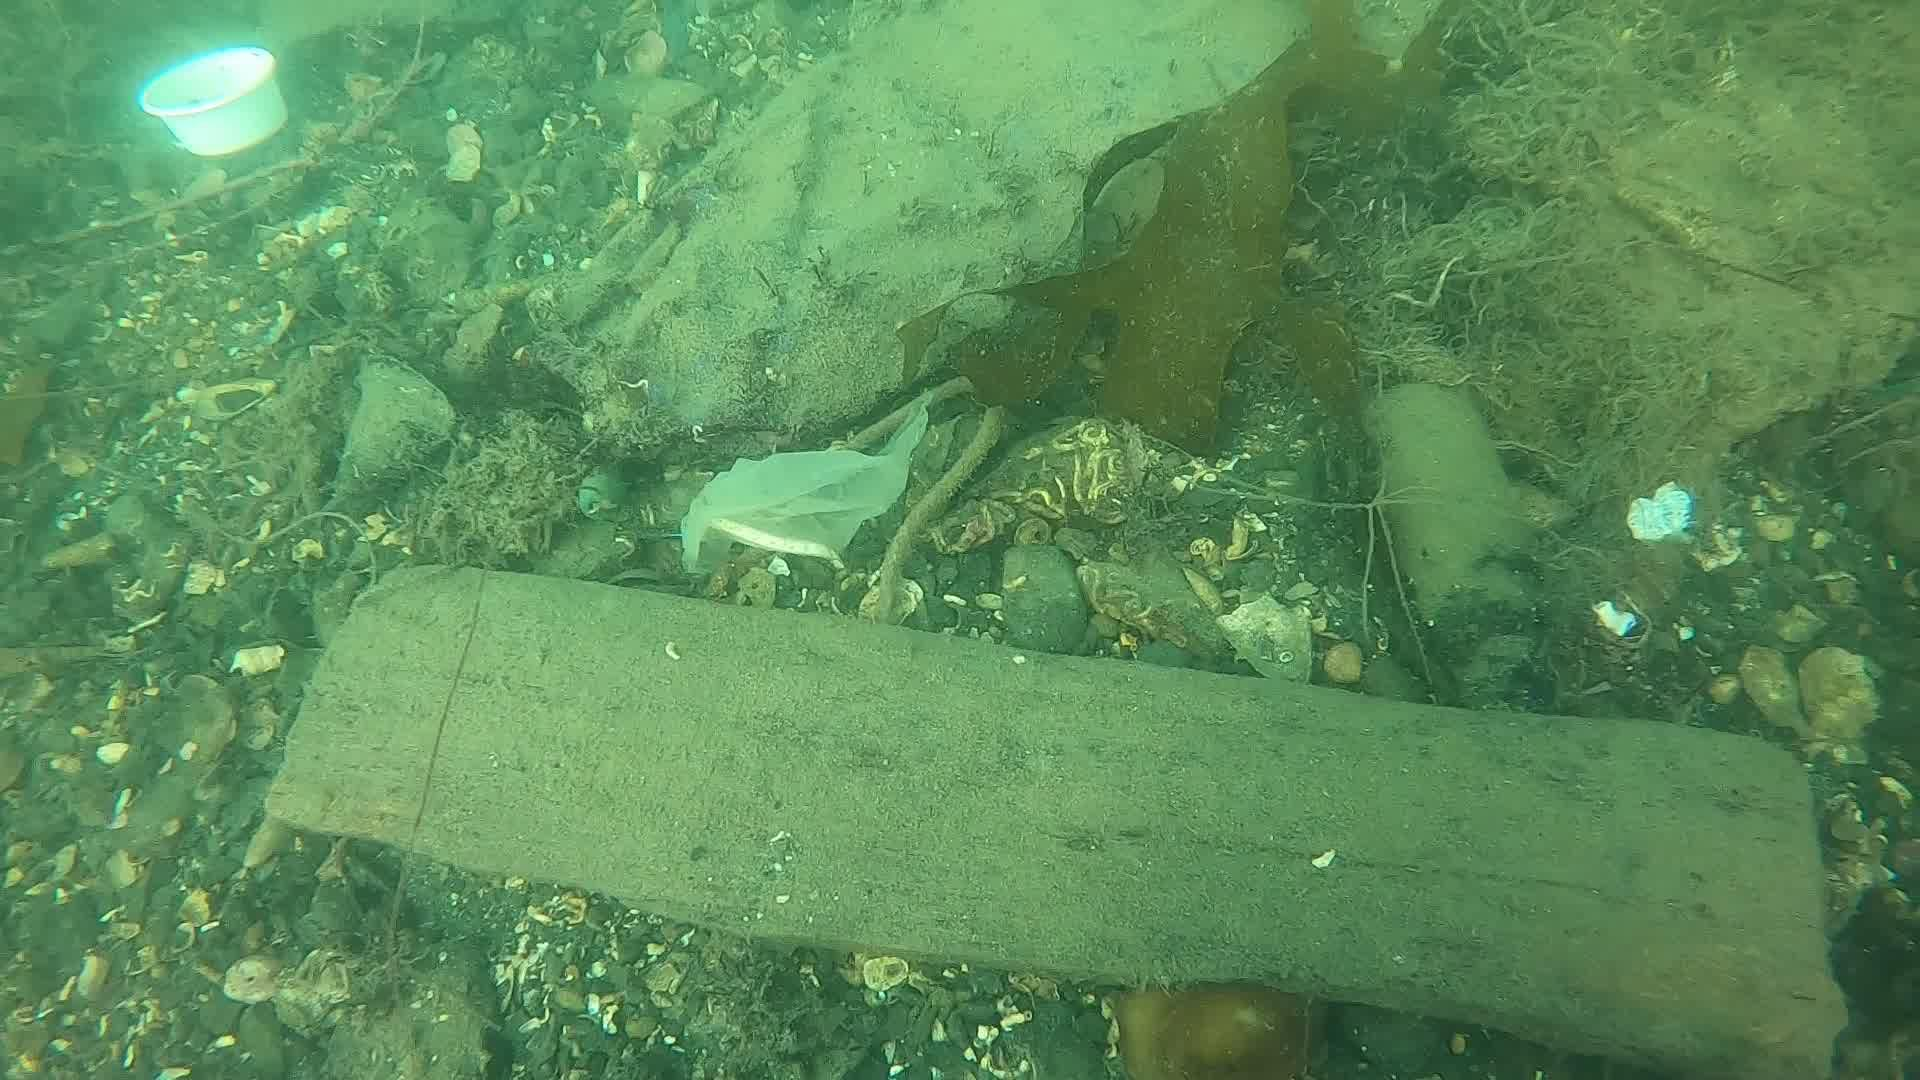wood: (260, 562, 1840, 1080)
